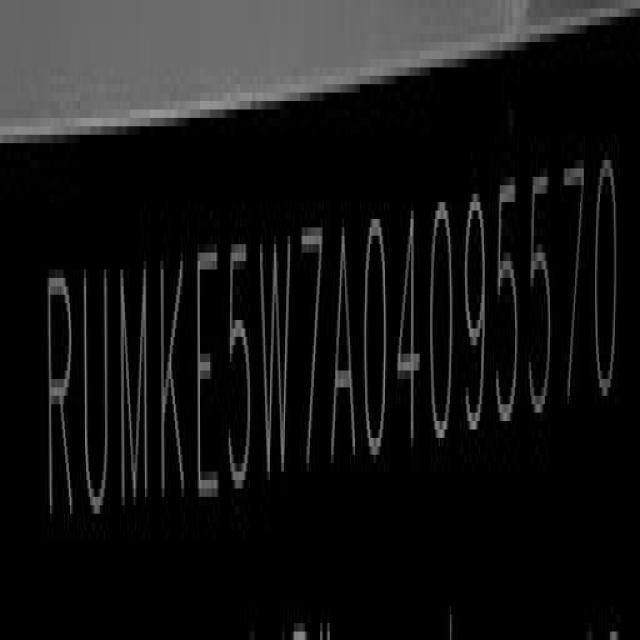0: (427, 190, 454, 449), (361, 212, 389, 455), (593, 150, 618, 405)
2: (257, 218, 295, 486)
4: (395, 212, 423, 437)
5: (227, 222, 253, 512), (493, 166, 520, 430), (525, 156, 551, 418)
7: (560, 144, 587, 406), (299, 218, 325, 474)
9: (464, 187, 486, 446)
A: (327, 218, 358, 462)
E: (197, 230, 220, 518)
K: (159, 246, 188, 508)
M: (119, 262, 151, 518)
R: (47, 259, 75, 530)
U: (81, 256, 113, 521)
